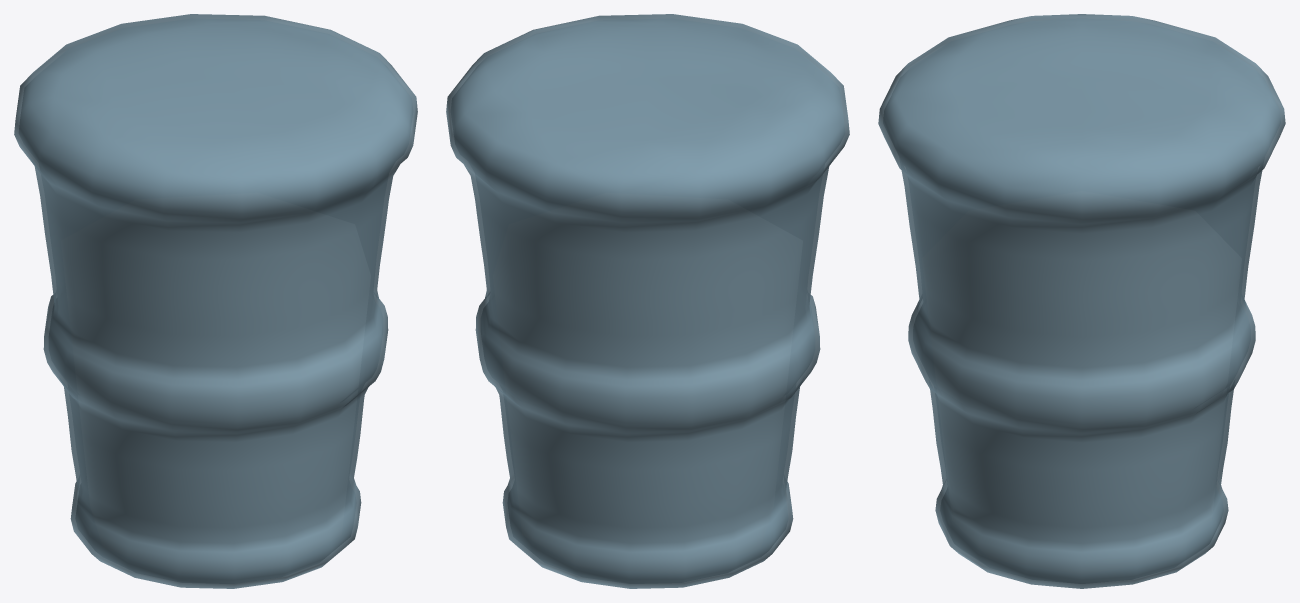
File: SM_Water_Cooler_Top.fbx
The picture shows the model from 3 angles, left to right: view 1: azimuth 30°, elevation 25°; view 2: azimuth 150°, elevation 25°; view 3: azimuth 270°, elevation 25°; orthographic projection.
Parts seen in each view (by area): view 1: polySurface2; view 2: polySurface2; view 3: polySurface2.
Part boxes in pixels (x1,y1,x2,y2): polySurface2: [14, 14, 417, 588]; polySurface2: [446, 14, 849, 588]; polySurface2: [878, 14, 1285, 588].
Bounding box in the file's own units: 75.76 × 94.68 × 75.77.
